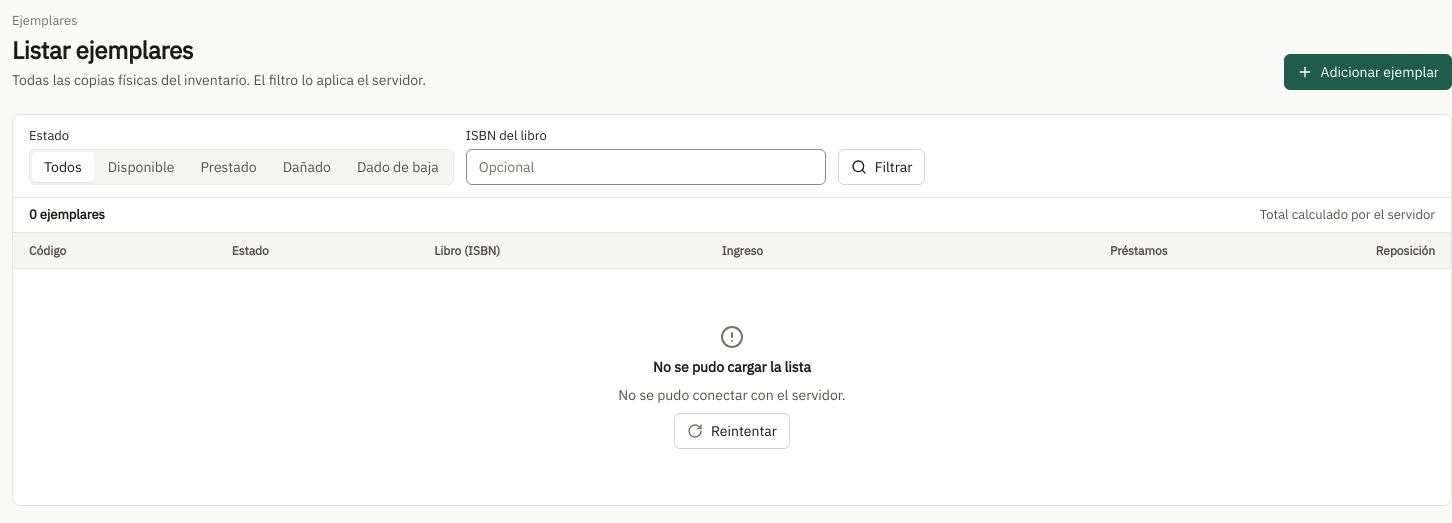
ListarEjemplares › muestra el error de carga y el estado vacío con filtro
expect the text "No se pudo cargar la lista" is shown: met, box [653, 357, 811, 377]
Click the radio button labelled "Dañado": [307, 167] box [283, 158, 331, 176]
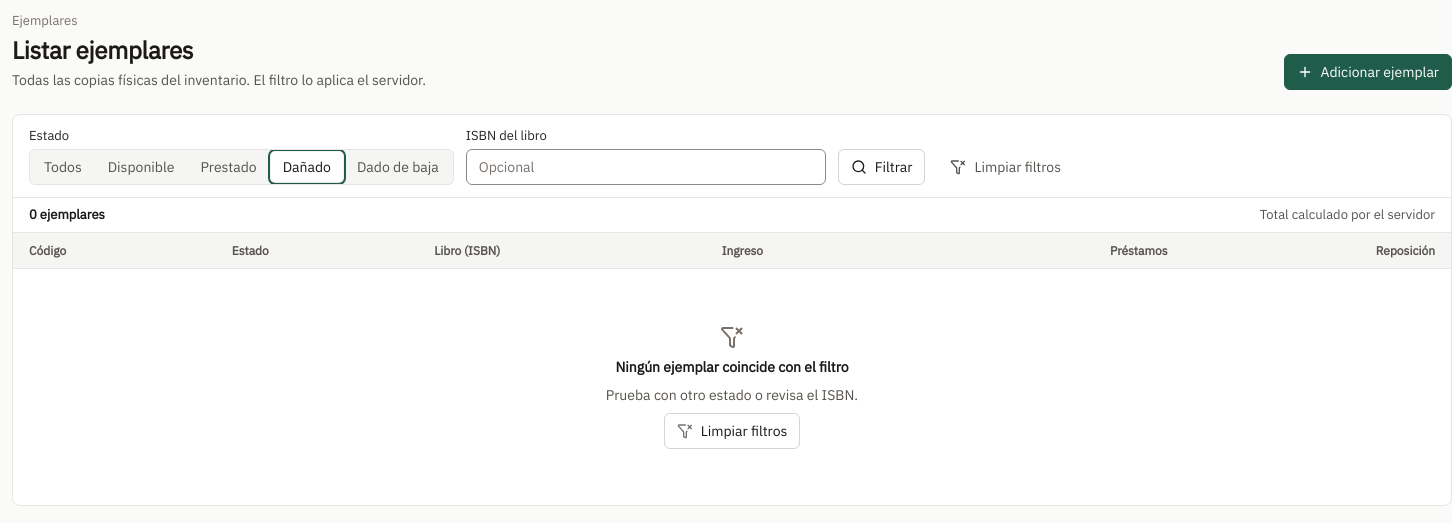
expect the text "Ningún ejemplar coincide con el filtro" is shown: met, box [616, 357, 849, 377]
